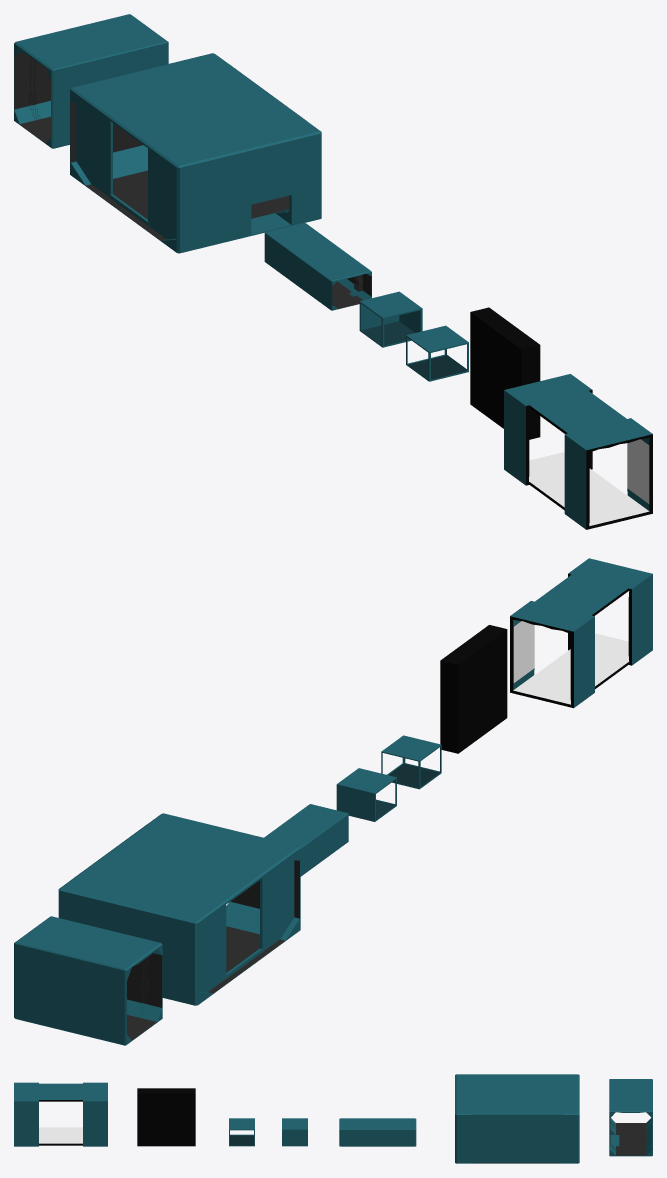
Rendered from AllPrefabsSpace4.fbx.
3 renders of one model, top to bottom at view 1: azimuth 30°, elevation 25°; view 2: azimuth 150°, elevation 25°; view 3: azimuth 270°, elevation 25°, orthographic. The views are drawn at different scales.
Parts seen in each view (by area): view 1: Cube.002, Cube.006, Cube.003, Cube.004, Cube.001, Cube, Cube.005; view 2: Cube.002, Cube.003, Cube.006, Cube.004, Cube.001, Cube, Cube.005; view 3: Cube.002, Cube.006, Cube.004, Cube.003, Cube.001, Cube, Cube.005.
Part boxes in pixels (bbox=[...]): Cube.002: bbox=[70, 53, 321, 253]; Cube.006: bbox=[504, 374, 652, 529]; Cube.003: bbox=[14, 14, 168, 148]; Cube.004: bbox=[470, 307, 540, 439]; Cube.001: bbox=[264, 222, 371, 310]; Cube: bbox=[359, 291, 422, 347]; Cube.005: bbox=[406, 325, 468, 381]; Cube.002: bbox=[58, 813, 300, 1005]; Cube.003: bbox=[14, 916, 162, 1045]; Cube.006: bbox=[510, 558, 652, 708]; Cube.004: bbox=[440, 625, 507, 753]; Cube.001: bbox=[264, 804, 348, 876]; Cube: bbox=[336, 768, 396, 821]; Cube.005: bbox=[381, 735, 441, 789]; Cube.002: bbox=[455, 1074, 579, 1163]; Cube.006: bbox=[14, 1082, 107, 1146]; Cube.004: bbox=[137, 1088, 195, 1146]; Cube.003: bbox=[609, 1079, 652, 1156]; Cube.001: bbox=[339, 1118, 416, 1146]; Cube: bbox=[282, 1118, 307, 1146]; Cube.005: bbox=[229, 1118, 254, 1146].
Size of the model in its own units: 1527 by 942 by 10212.
